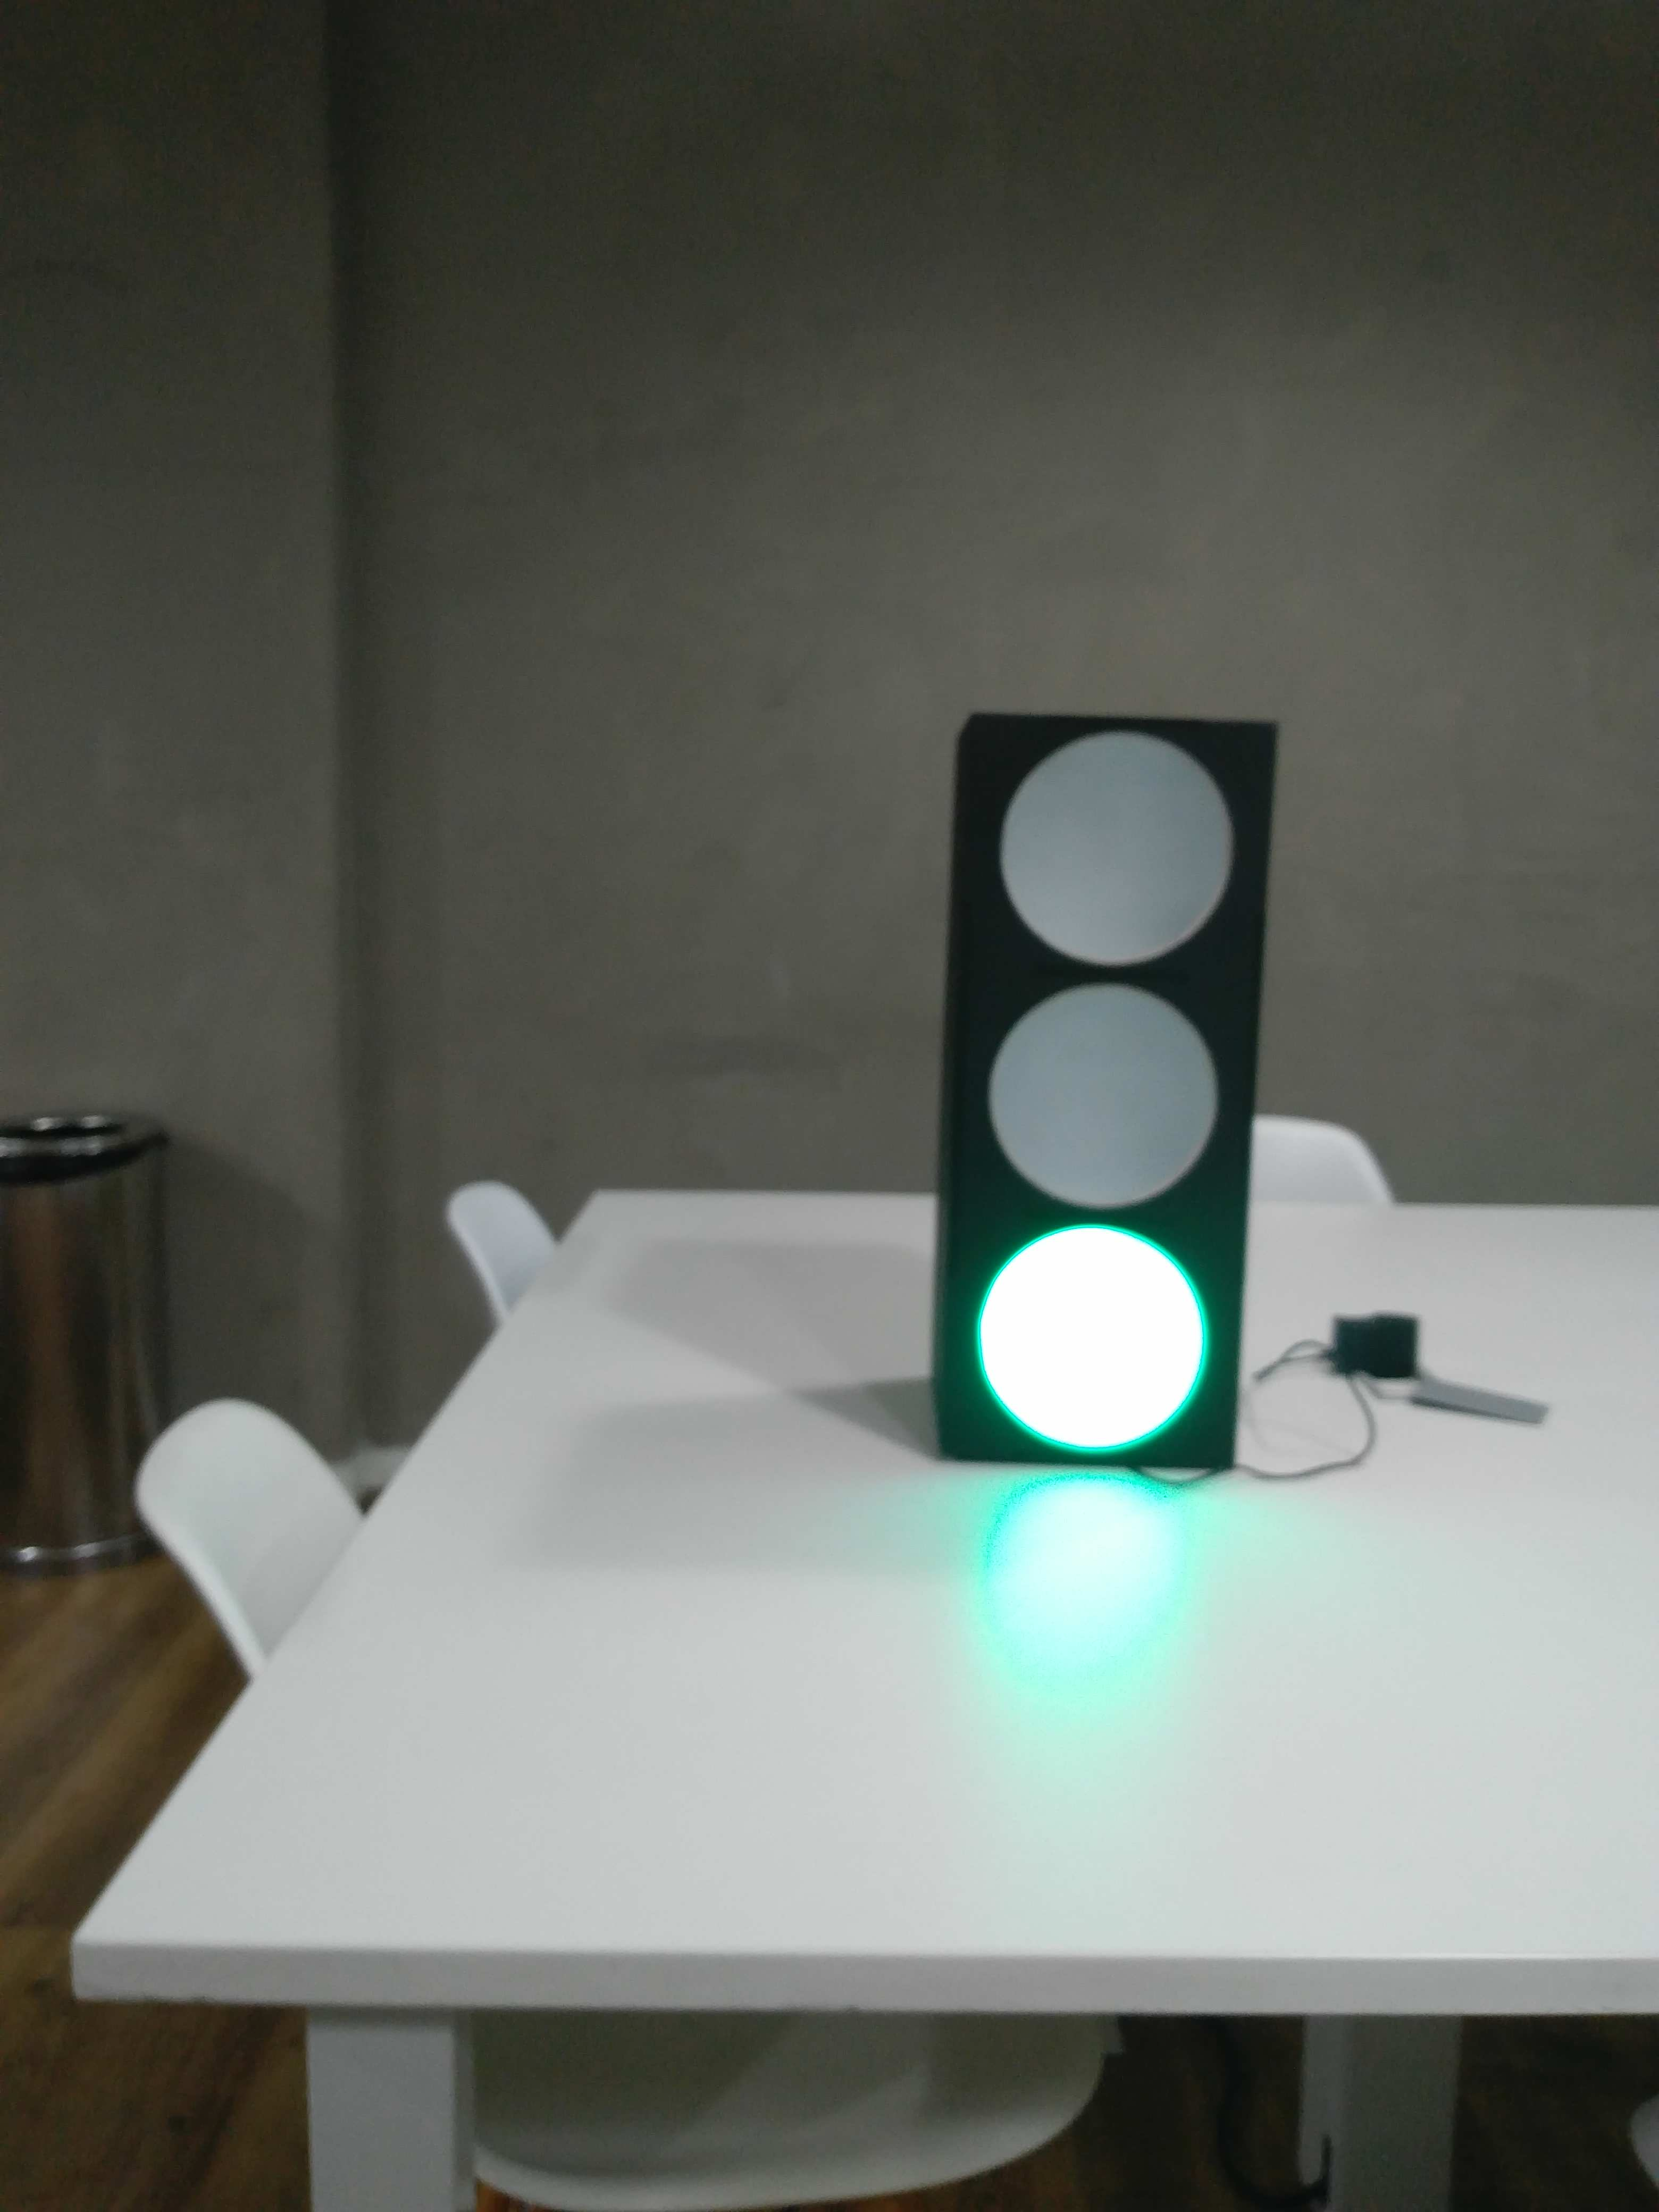go: (911, 711, 1326, 1475)
